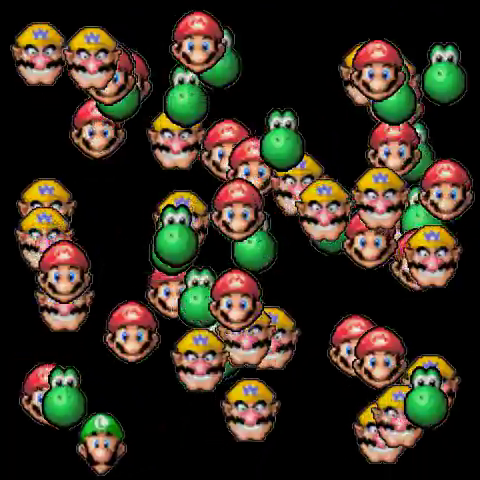luigi: (70, 417, 129, 466)
